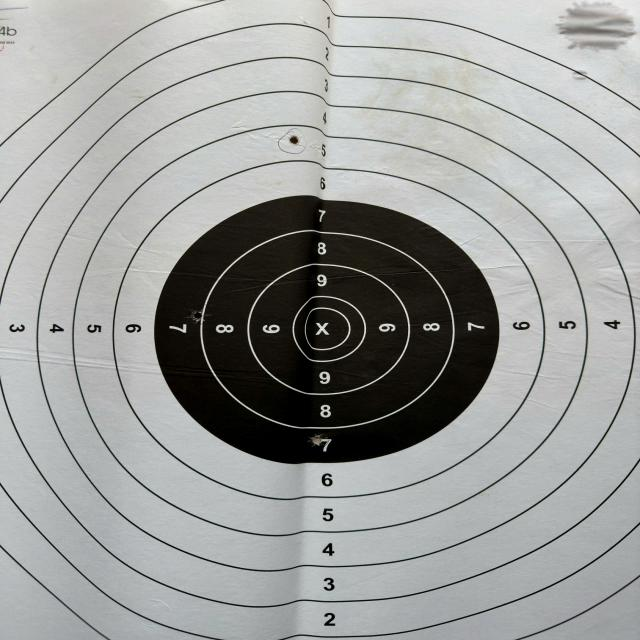bullet: (309, 434, 328, 446), (290, 135, 298, 144), (194, 312, 201, 319)
